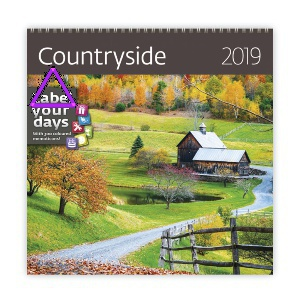triangle: (27, 65, 78, 110)
